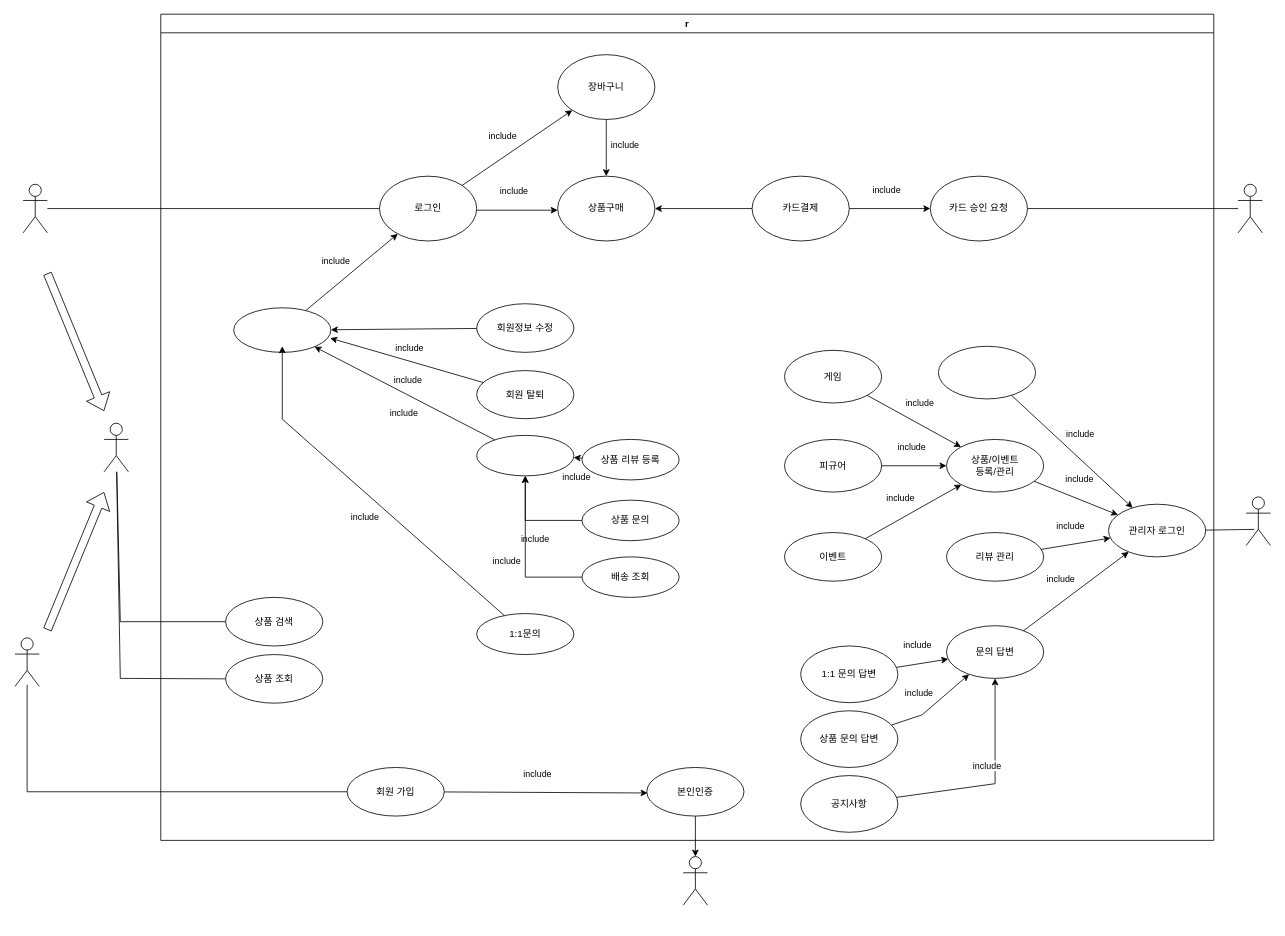
Image size: 1285x936. Some labels were removed from this diagram. Here are the shapes that lost their labels. From the top down, the box of each, then its label:
(22, 183, 47, 233): 회원
(1237, 183, 1262, 233): 카드사
(233, 307, 331, 352): 마이페이지
(938, 345, 1036, 399): 회원 관리
(103, 422, 128, 472): 사용자
(476, 435, 574, 476): 주문 내역
(1245, 496, 1270, 546): 관리자
(14, 637, 39, 686): 비회원
(682, 856, 708, 905): 암호화 모듈
